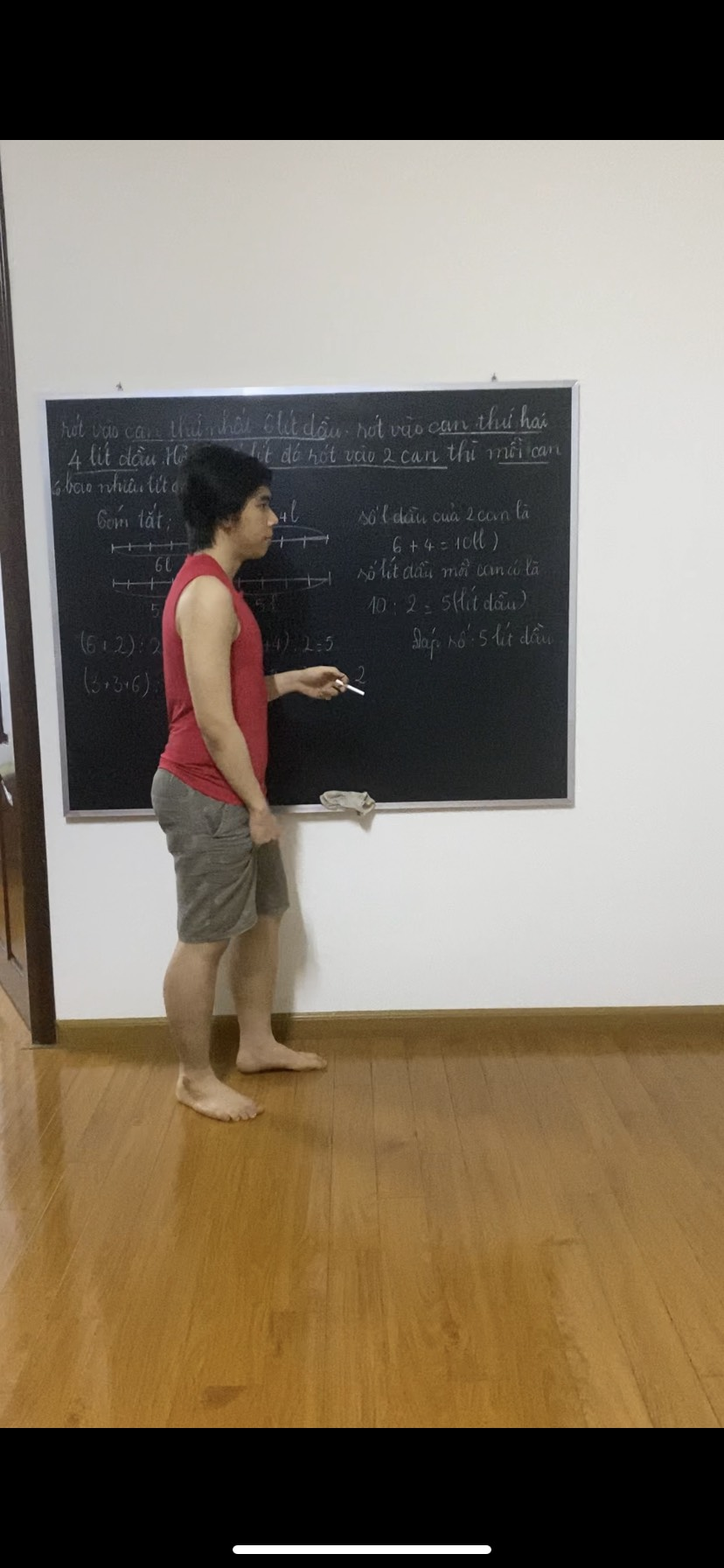cigarette: (346, 682, 367, 700)
person: (150, 457, 362, 1104)
